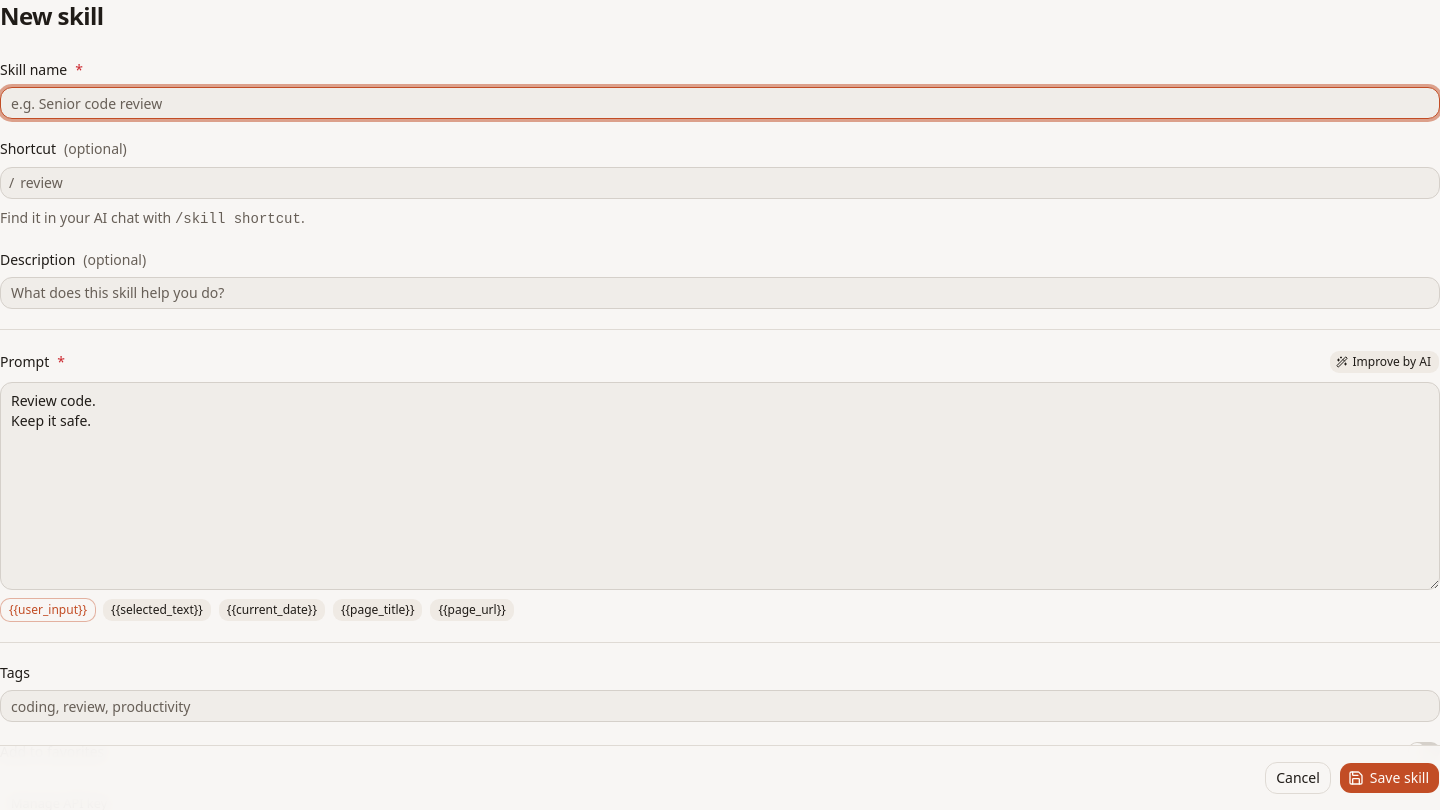
Improve by AI editor flow › dismisses the review with Escape without changing the draft
The width and height of the screenshot is (1440, 810).
Click the button "Improve by AI" at (1385, 362), box [1330,350,1439,374]
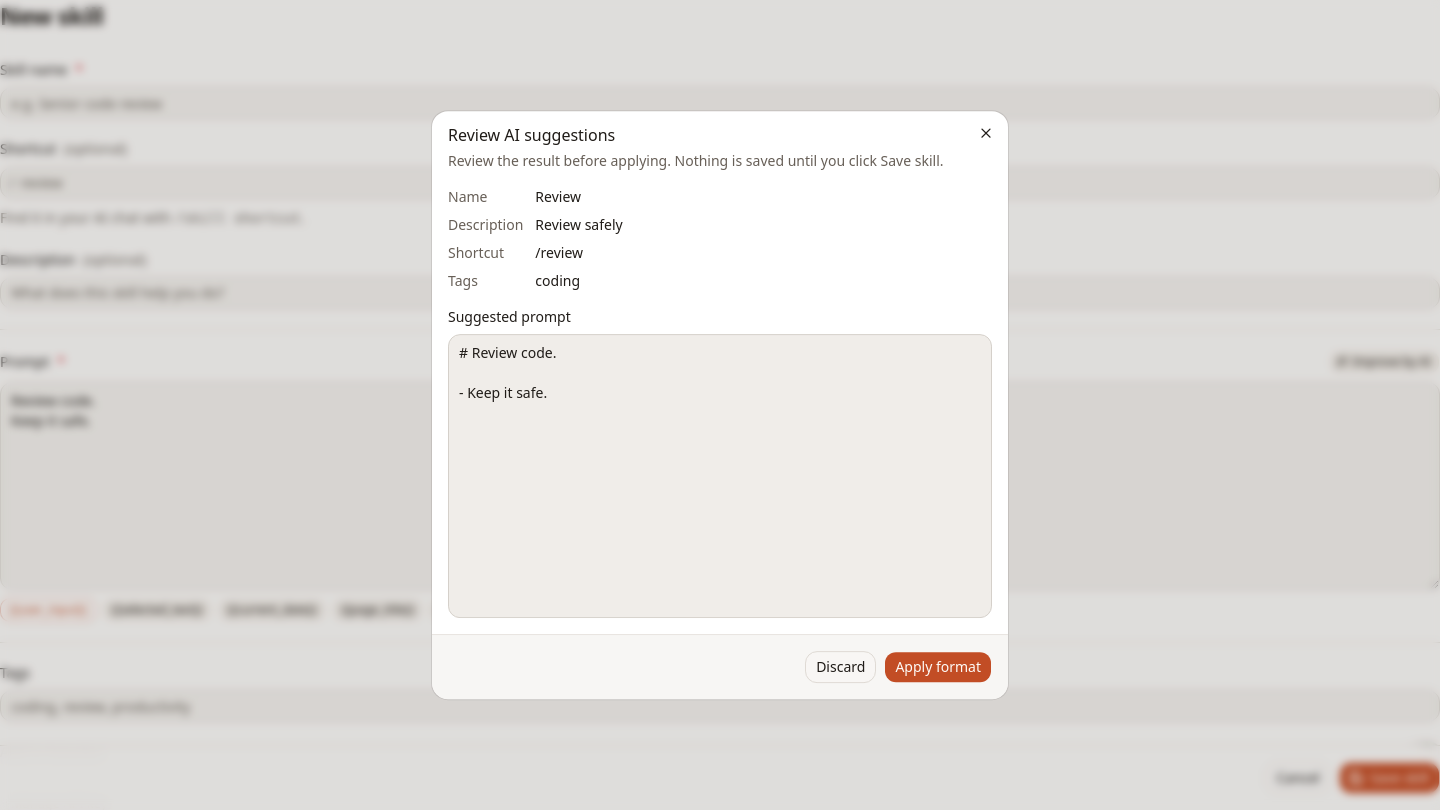
Press Escape in the dialog, box [432,111,1008,699]
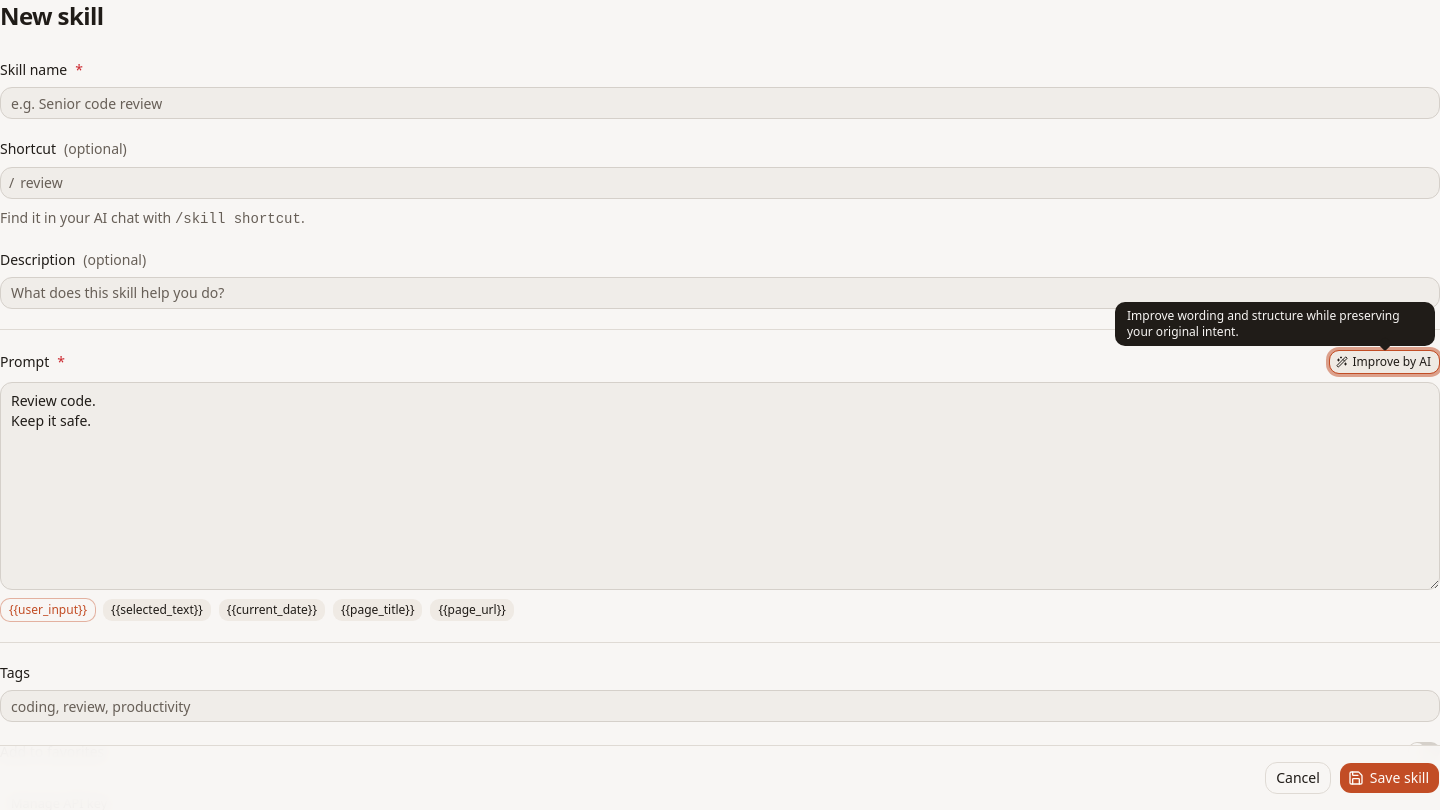
Now the label with id "formatted-prompt" is gone
